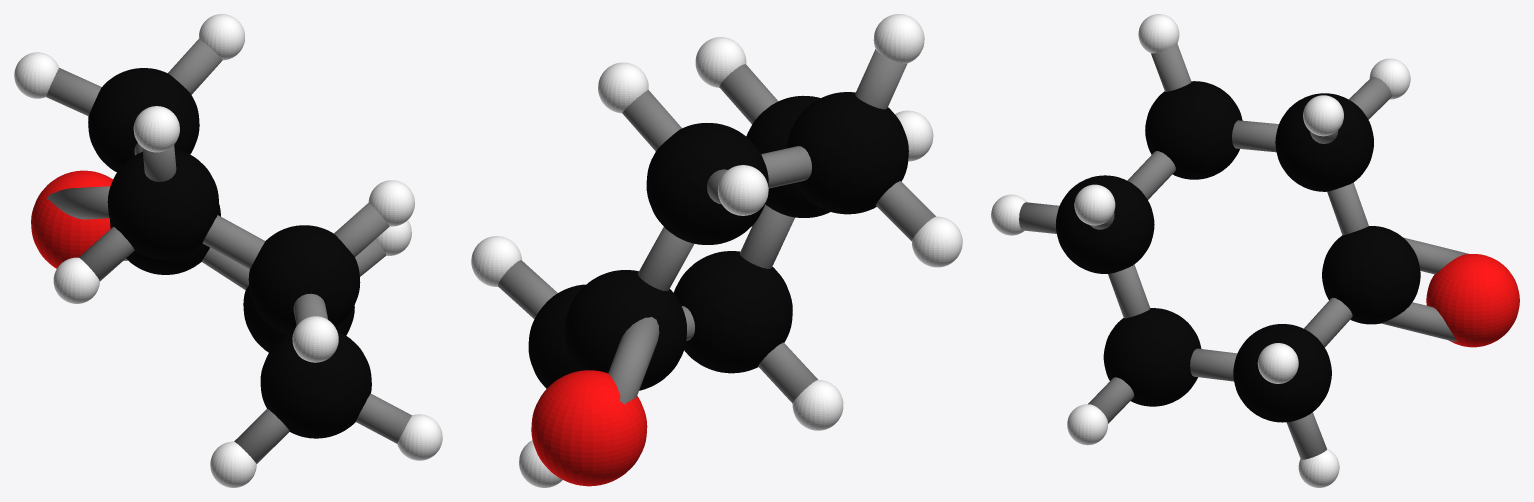
File: CICLOHEXANONA.obj
The picture shows the model from 3 angles, left to right: view 1: azimuth 30°, elevation 25°; view 2: azimuth 150°, elevation 25°; view 3: azimuth 270°, elevation 25°; orthographic projection. The views are drawn at different scales.
Visible parts, largest first — view 1: Carbon_ball_Sphere.001, Hydrogen_ball_Sphere, Oxygen_ball_Sphere.002, Stick_Cylinder.010_Cylinder.010, Stick_Cylinder.016_Cylinder.016, Stick_Cylinder.005_Cylinder.005, Stick_Cylinder.014_Cylinder.014, Stick_Cylinder.002_Cylinder.002, Stick_Cylinder.007_Cylinder.007, Stick_Cylinder.004_Cylinder.004, Stick_Cylinder.013_Cylinder.013, Stick_Cylinder.009_Cylinder.009 (+3 smaller); view 2: Carbon_ball_Sphere.001, Hydrogen_ball_Sphere, Oxygen_ball_Sphere.002, Stick_Cylinder.016_Cylinder.016, Stick_Cylinder.006_Cylinder.006, Stick_Cylinder.015_Cylinder.015, Stick_Cylinder.002_Cylinder.002, Stick_Cylinder.007_Cylinder.007, Stick_Cylinder.004_Cylinder.004, Stick_Cylinder.009_Cylinder.009, Stick_Cylinder.013_Cylinder.013, Stick_Cylinder.012_Cylinder.012 (+1 smaller); view 3: Carbon_ball_Sphere.001, Hydrogen_ball_Sphere, Oxygen_ball_Sphere.002, Stick_Cylinder.017_Cylinder.017, Stick_Cylinder.006_Cylinder.006, Stick_Cylinder.015_Cylinder.015, Stick_Cylinder.003_Cylinder.003, Stick_Cylinder.008_Cylinder.008, Stick_Cylinder.011_Cylinder.011, Stick_Cylinder.010_Cylinder.010, Stick_Cylinder.009_Cylinder.009, Stick_Cylinder_Cylinder (+4 smaller).
Part boxes in pixels (box(x1,y1,x2,y2)): Carbon_ball_Sphere.001: box(88, 68, 371, 438); Hydrogen_ball_Sphere: box(14, 14, 442, 487); Oxygen_ball_Sphere.002: box(31, 170, 112, 268); Stick_Cylinder.010_Cylinder.010: box(202, 215, 265, 268); Stick_Cylinder.016_Cylinder.016: box(47, 186, 110, 219); Stick_Cylinder.005_Cylinder.005: box(356, 393, 411, 443); Stick_Cylinder.014_Cylinder.014: box(46, 68, 101, 116); Stick_Cylinder.002_Cylinder.002: box(168, 39, 222, 94); Stick_Cylinder.007_Cylinder.007: box(79, 226, 134, 281); Stick_Cylinder.004_Cylinder.004: box(234, 409, 289, 463); Stick_Cylinder.013_Cylinder.013: box(334, 202, 389, 256); Stick_Cylinder.009_Cylinder.009: box(142, 145, 176, 181); Carbon_ball_Sphere.001: box(528, 92, 908, 390); Hydrogen_ball_Sphere: box(471, 14, 962, 487); Oxygen_ball_Sphere.002: box(531, 370, 647, 486); Stick_Cylinder.016_Cylinder.016: box(608, 317, 659, 404); Stick_Cylinder.006_Cylinder.006: box(740, 204, 794, 268); Stick_Cylinder.015_Cylinder.015: box(638, 227, 694, 291); Stick_Cylinder.002_Cylinder.002: box(622, 90, 681, 151); Stick_Cylinder.007_Cylinder.007: box(876, 181, 935, 241); Stick_Cylinder.004_Cylinder.004: box(758, 342, 817, 403); Stick_Cylinder.009_Cylinder.009: box(855, 49, 907, 109); Stick_Cylinder.013_Cylinder.013: box(719, 64, 777, 124); Stick_Cylinder.012_Cylinder.012: box(498, 260, 557, 319); Carbon_ball_Sphere.001: box(1055, 81, 1420, 422); Hydrogen_ball_Sphere: box(991, 14, 1410, 487); Oxygen_ball_Sphere.002: box(1426, 254, 1519, 347); Stick_Cylinder.017_Cylinder.017: box(1381, 302, 1456, 341); Stick_Cylinder.006_Cylinder.006: box(1108, 264, 1150, 318); Stick_Cylinder.015_Cylinder.015: box(1327, 182, 1368, 235); Stick_Cylinder.003_Cylinder.003: box(1190, 348, 1237, 381); Stick_Cylinder.008_Cylinder.008: box(1232, 120, 1278, 152); Stick_Cylinder.011_Cylinder.011: box(1304, 298, 1352, 347); Stick_Cylinder.010_Cylinder.010: box(1127, 151, 1175, 199); Stick_Cylinder.009_Cylinder.009: box(1151, 43, 1191, 91); Stick_Cylinder_Cylinder: box(1286, 412, 1326, 459).
Bounding box in the file's own units: 5.69 × 5.73 × 7.43.
